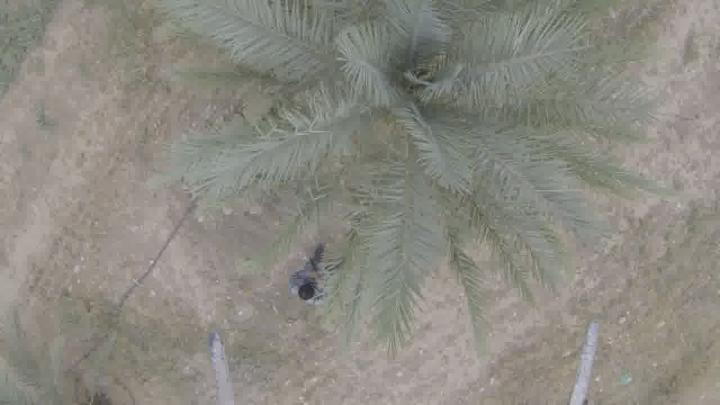Date-Palm-Crown: (273, 0, 555, 222)
